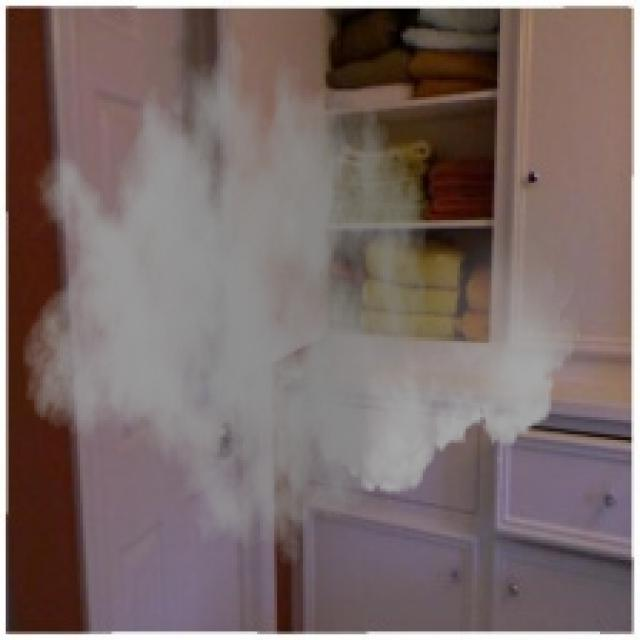smoke: (20, 0, 583, 566)
